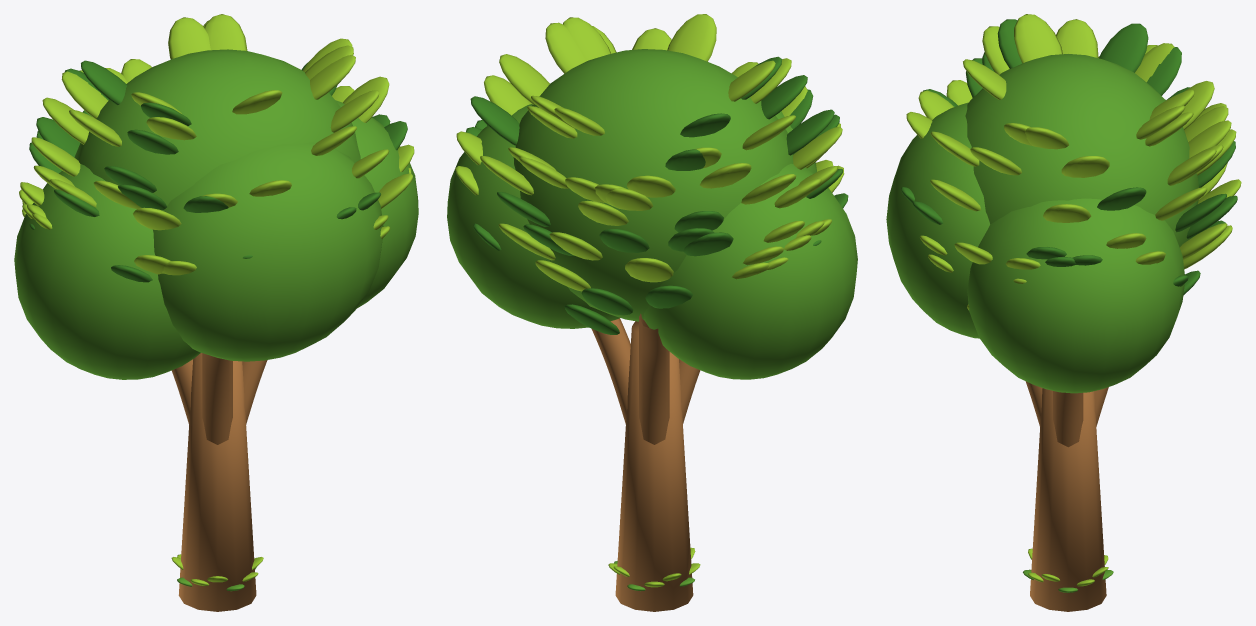
The model's file is tree_round.glb.
3 views of the same model, side by side, from view 1: azimuth 30°, elevation 25°; view 2: azimuth 150°, elevation 25°; view 3: azimuth 270°, elevation 25° (orthographic).
Parts seen in each view (by area): view 1: tree_round; view 2: tree_round; view 3: tree_round.
Boxes of the visible parts, x1,y1,x2,y2 form: tree_round: [14, 14, 418, 611]; tree_round: [447, 14, 857, 611]; tree_round: [886, 14, 1241, 611].
Size of the model in its own units: 2.15 by 2.92 by 1.76.
